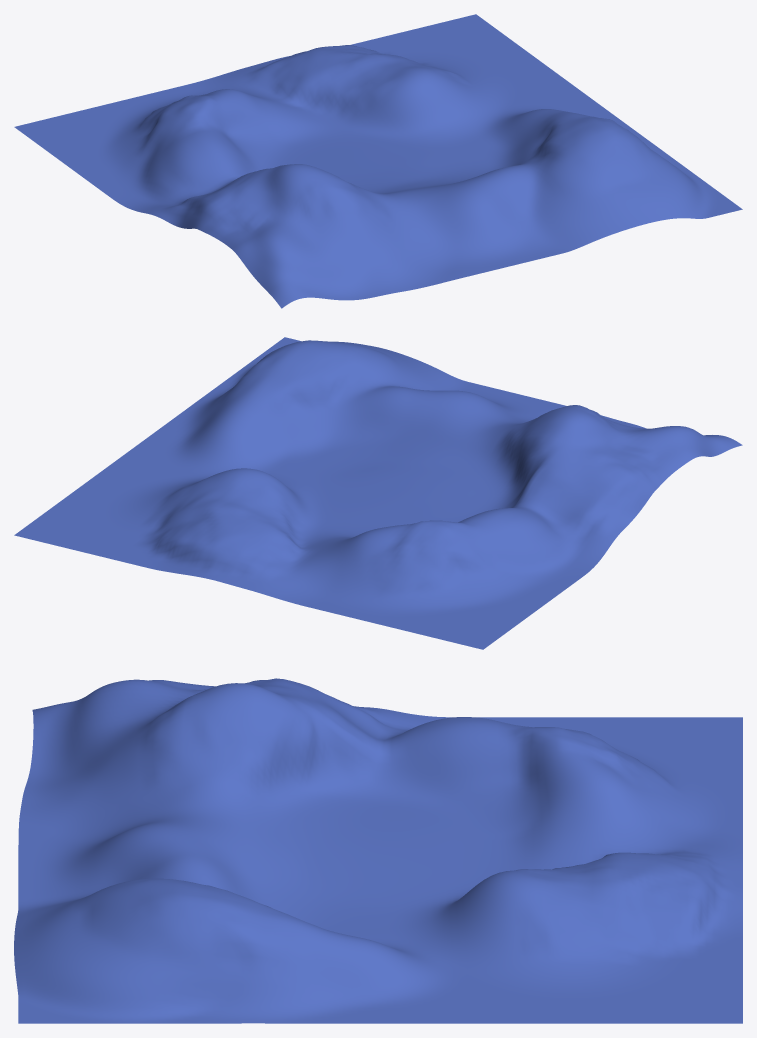
The model's file is Terrain.glb.
The picture shows the model from 3 angles, top to bottom: view 1: azimuth 30°, elevation 25°; view 2: azimuth 150°, elevation 25°; view 3: azimuth 270°, elevation 25°; orthographic projection. The views are drawn at different scales.
Visible parts, largest first — view 1: Grid; view 2: Grid; view 3: Grid.
Boxes of the visible parts, box(x1,y1,x2,y2) form: Grid: box(14, 14, 742, 308); Grid: box(14, 337, 742, 649); Grid: box(14, 678, 742, 1023).
Size of the model in its own units: 851 by 126 by 856.
